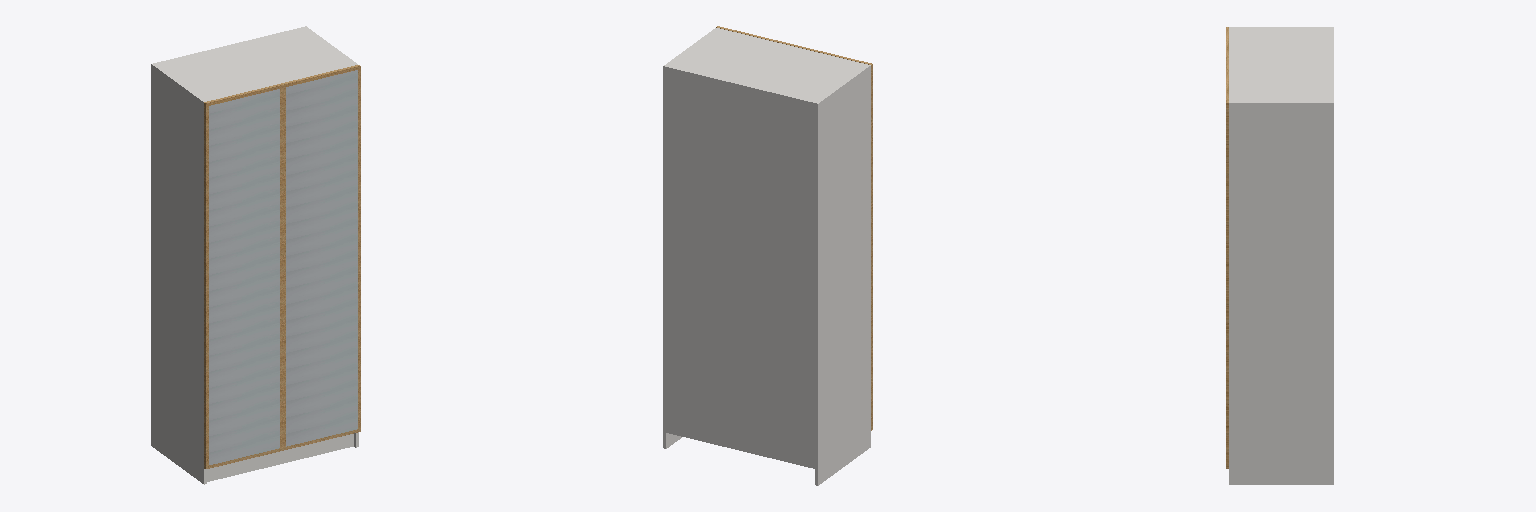
The picture shows the model from 3 angles: view 1: azimuth 30°, elevation 25°; view 2: azimuth 150°, elevation 25°; view 3: azimuth 270°, elevation 25°; orthographic projection.
Parts seen in each view (by area): view 1: Mesh1 doors1 Model, Mesh2 Model; view 2: Mesh2 Model, Mesh1 doors1 Model; view 3: Mesh2 Model, Mesh1 doors1 Model.
Boxes of the visible parts, <box> form: Mesh1 doors1 Model: <box>204,65,360,468</box>; Mesh2 Model: <box>151,26,358,484</box>; Mesh2 Model: <box>663,28,870,485</box>; Mesh1 doors1 Model: <box>716,26,872,430</box>; Mesh2 Model: <box>1229,27,1333,484</box>; Mesh1 doors1 Model: <box>1226,27,1228,468</box>.
Size of the model in its own units: 1 by 2.36 by 0.61.
3 materials, 2 textured.